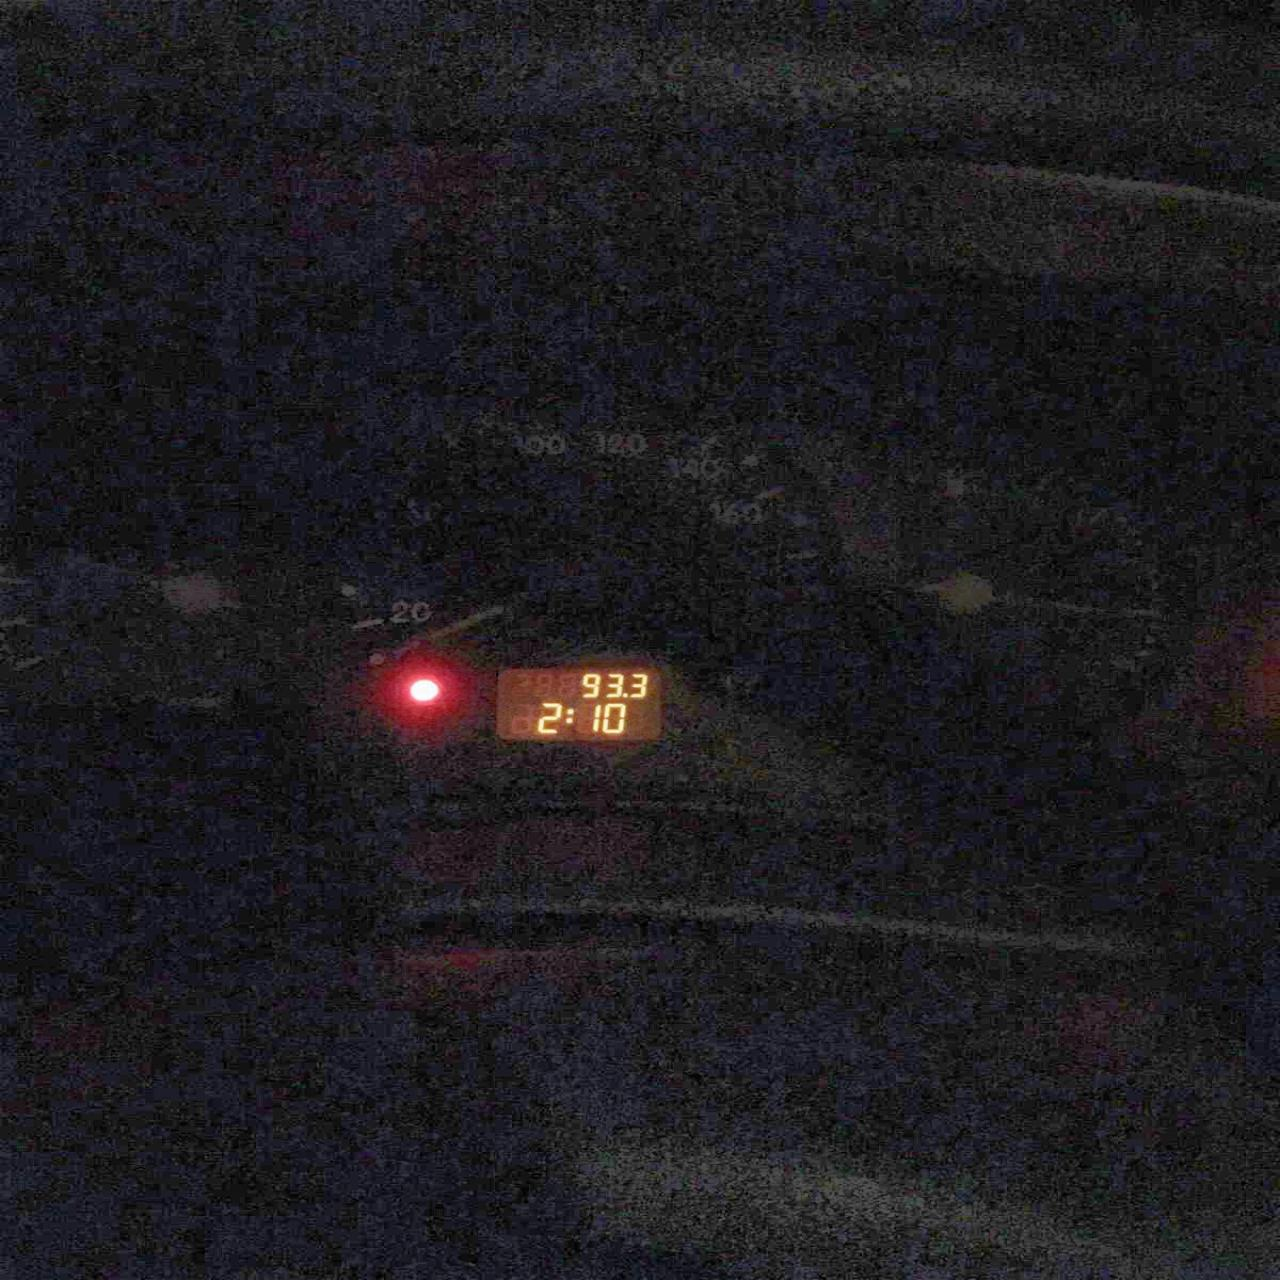-: (621, 693, 627, 697)
0: (601, 702, 626, 733)
1: (591, 704, 600, 731)
2: (537, 702, 561, 733)
3: (628, 673, 647, 697), (605, 673, 622, 697)
9: (581, 673, 599, 697)
X: (564, 708, 573, 723)
odometer: (490, 662, 666, 744)
